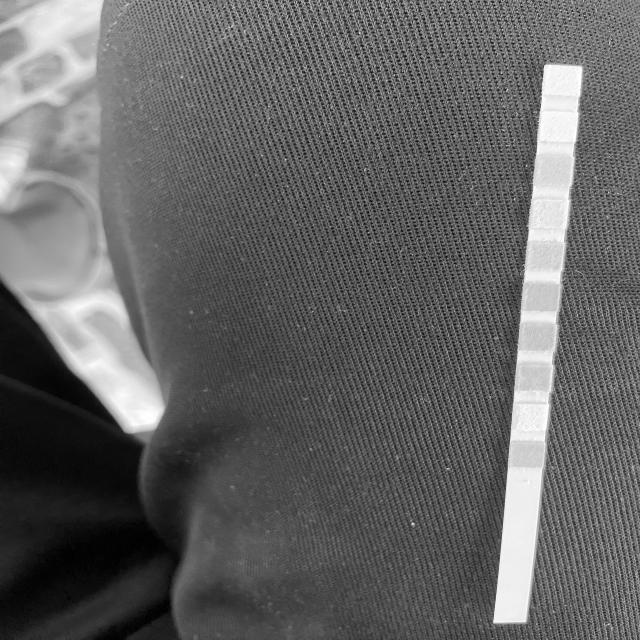Bilirubin: (513, 404, 546, 430)
Blood: (523, 284, 558, 311)
Glucose: (510, 442, 543, 468)
Ketone: (516, 365, 550, 391)
Leukocytes: (544, 66, 580, 95)
Nitrite: (542, 112, 576, 142)
Protein: (532, 200, 566, 228)
SpGravity: (520, 325, 554, 351)
Urobilinogen: (536, 157, 571, 186)
background: (0, 0, 640, 640)
pH: (527, 243, 562, 270)
strip: (495, 65, 583, 623)
